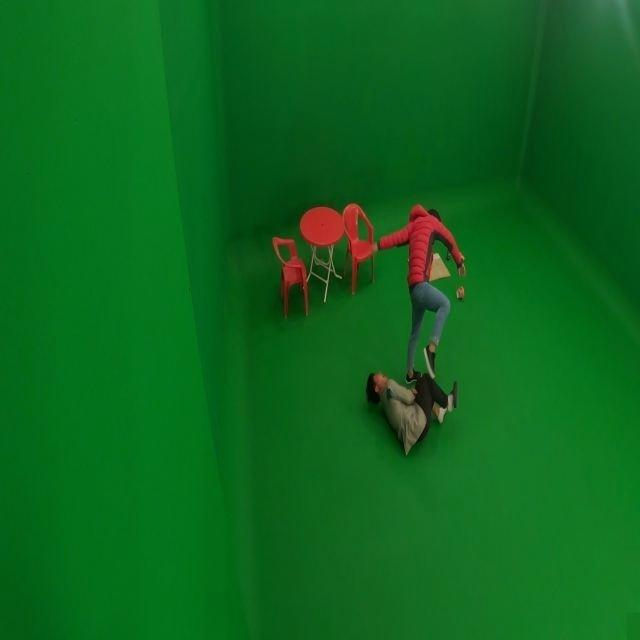fight: (356, 199, 468, 455)
